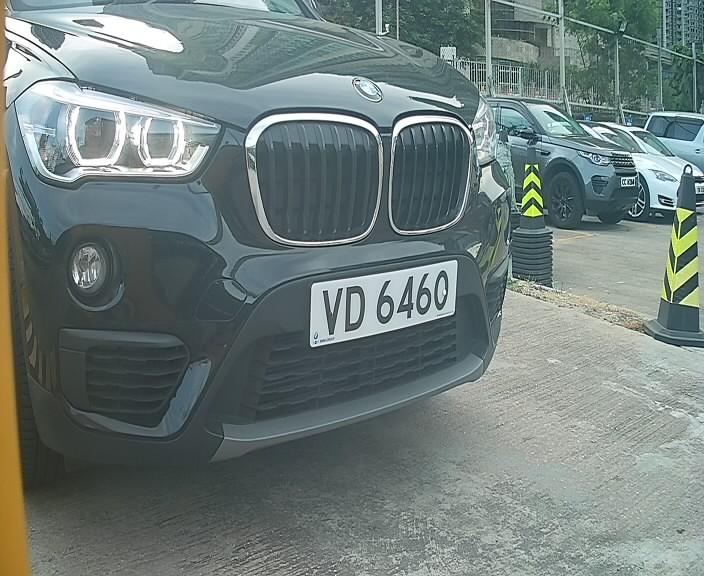License Plate: (299, 253, 459, 350)
